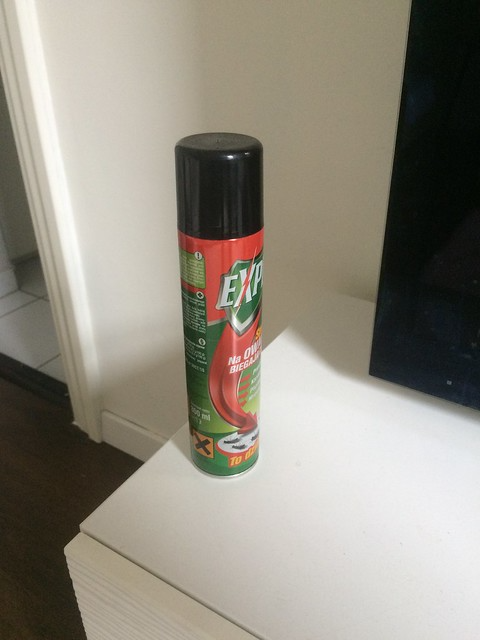can: (171, 126, 275, 478)
